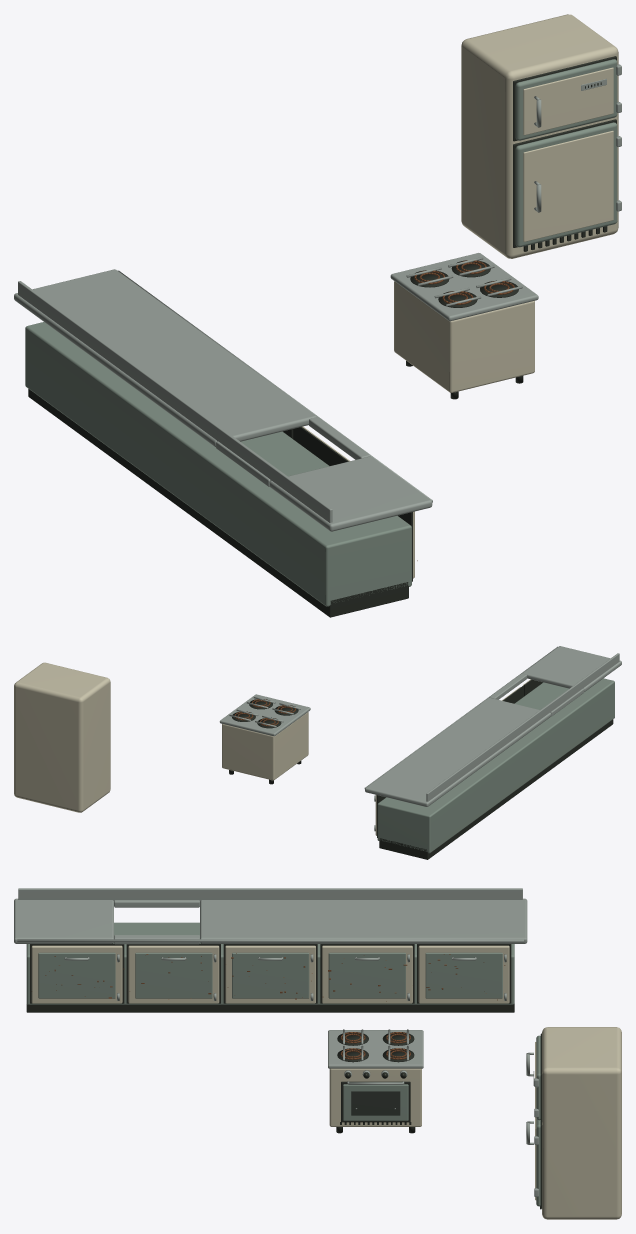
The model's file is industrial-kitchen.glb.
3 views of the same model, one above another, from view 1: azimuth 30°, elevation 25°; view 2: azimuth 150°, elevation 25°; view 3: azimuth 270°, elevation 25° (orthographic). The views are drawn at different scales.
Parts seen in each view (by area): view 1: Yellowed ivory enamel, Brushed greasy steel, Chipped hospital green enamel, Black rubber seals and soot, Oxidised exposed steel; view 2: Yellowed ivory enamel, Brushed greasy steel, Chipped hospital green enamel, Black rubber seals and soot, Oxidised exposed steel; view 3: Brushed greasy steel, Yellowed ivory enamel, Chipped hospital green enamel, Black rubber seals and soot, Smoked oven glass, Oxidised exposed steel.
Part boxes in pixels (<box>): Yellowed ivory enamel: <box>302,14,618,578</box>; Brushed greasy steel: <box>14,64,621,531</box>; Chipped hospital green enamel: <box>25,59,617,606</box>; Black rubber seals and soot: <box>28,56,616,617</box>; Oxidised exposed steel: <box>414,260,514,560</box>; Yellowed ivory enamel: <box>14,662,530,835</box>; Brushed greasy steel: <box>219,646,621,831</box>; Chipped hospital green enamel: <box>377,678,614,853</box>; Black rubber seals and soot: <box>229,679,613,859</box>; Oxidised exposed steel: <box>234,699,295,726</box>; Brushed greasy steel: <box>14,888,538,1196</box>; Yellowed ivory enamel: <box>31,945,621,1219</box>; Chipped hospital green enamel: <box>26,922,540,1206</box>; Black rubber seals and soot: <box>26,943,542,1209</box>; Smoked oven glass: <box>351,1091,400,1115</box>; Oxidised exposed steel: <box>31,953,505,1059</box>.
Size of the model in its own units: 6.85 by 2 by 7.23.
